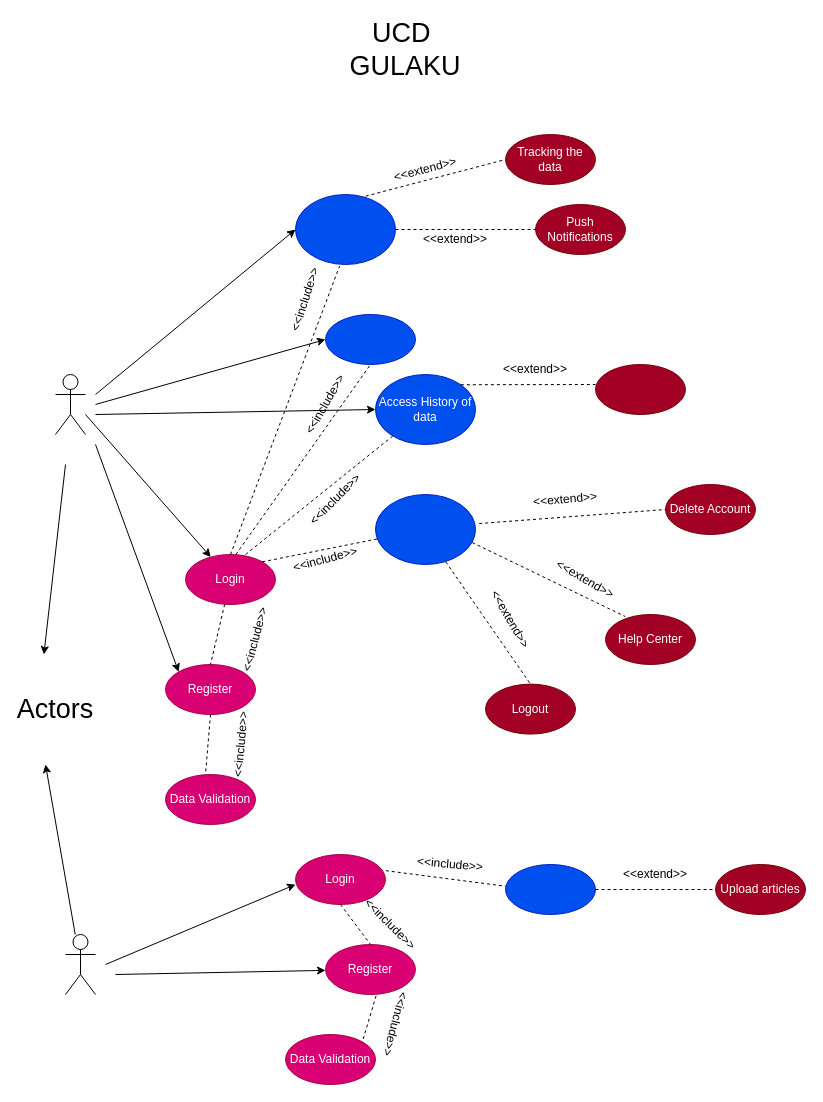
This 823x1102 diagram has some shape labels left out. The shapes that lost their labels are listed below. From the top down, each one's centre as x and y in pixels, then its label:
At point 345,229: "Set and Input the data of sugar".
At point 370,339: "Read Articles".
At point 70,404: "User".
At point 640,389: "Edit and delete the data".
At point 425,529: "Access Personal Information".
At point 550,889: "Manage Articles".
At point 80,964: "Stakeholders Admin".
